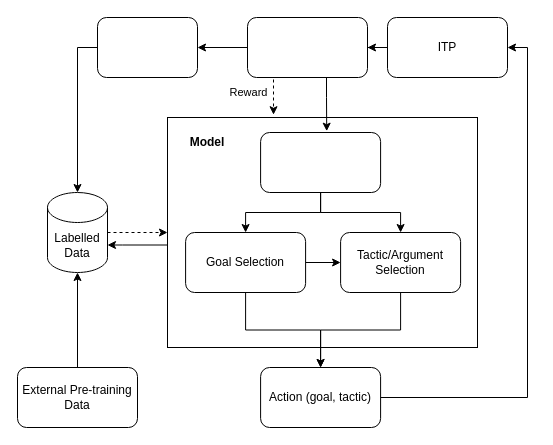
The diagram is 553 pixels wide and 445 high, and some of its shapes have lost their labels. Each missing label, with the centre of its shape:
"Proof Logs" belongs at point 147,47.
"Proof State" belongs at point 307,47.
"State Encoding" belongs at point 320,162.
